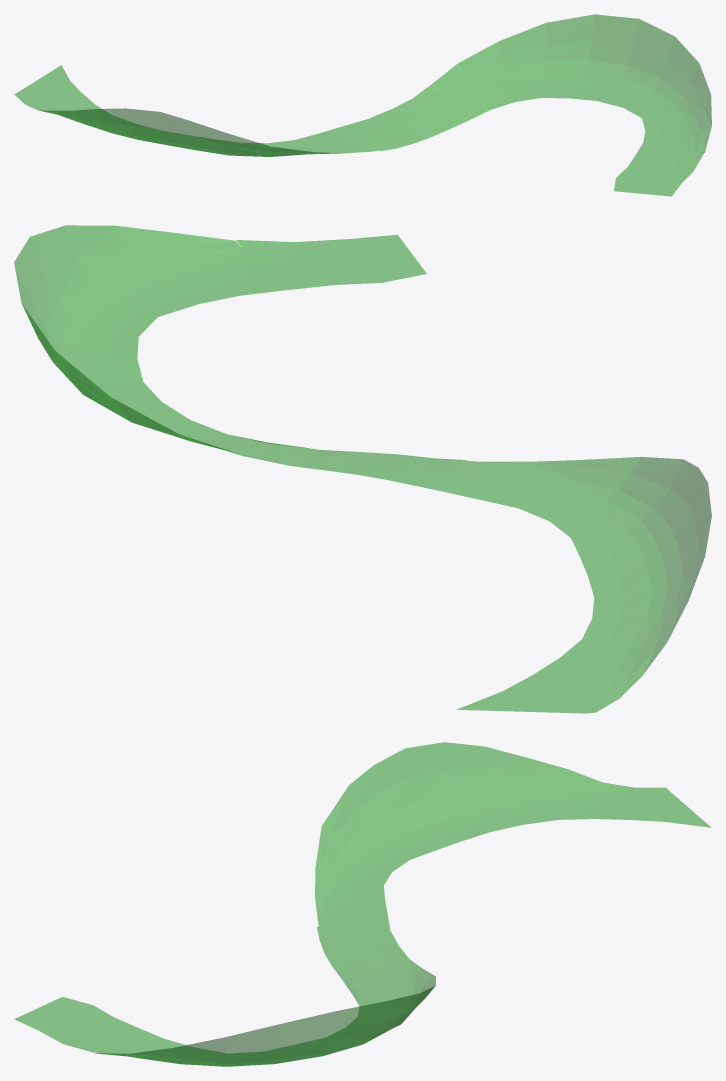
File: quicksand1.obj
3 views of the same model, one above another, from view 1: azimuth 30°, elevation 25°; view 2: azimuth 150°, elevation 25°; view 3: azimuth 270°, elevation 25° (orthographic). The views are drawn at different scales.
Size of the model in its own units: 190 by 23.77 by 186.
